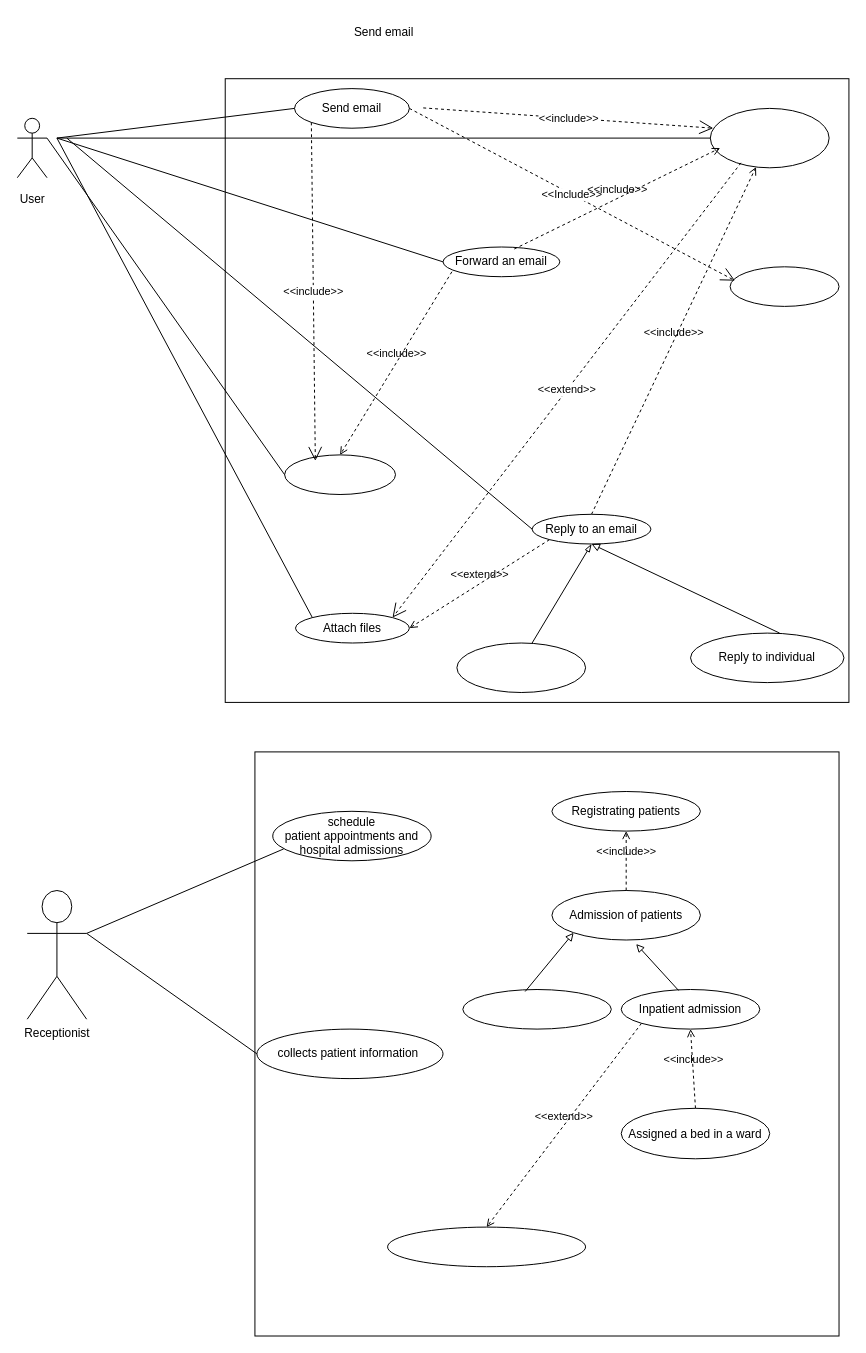
The diagram is 866 pixels wide and 1353 high, and some of its shapes have lost their labels. The shapes that lost their labels are listed below. From the top down, each one's centre as x and y in pixels, then its label:
At point 769,137: "Compose email".
At point 784,286: "Scan attachments".
At point 340,474: "Select recipients".
At point 521,667: "Reply to all".
At point 536,1009: "outpatient admission".
At point 486,1246: "filing insurance claims".
